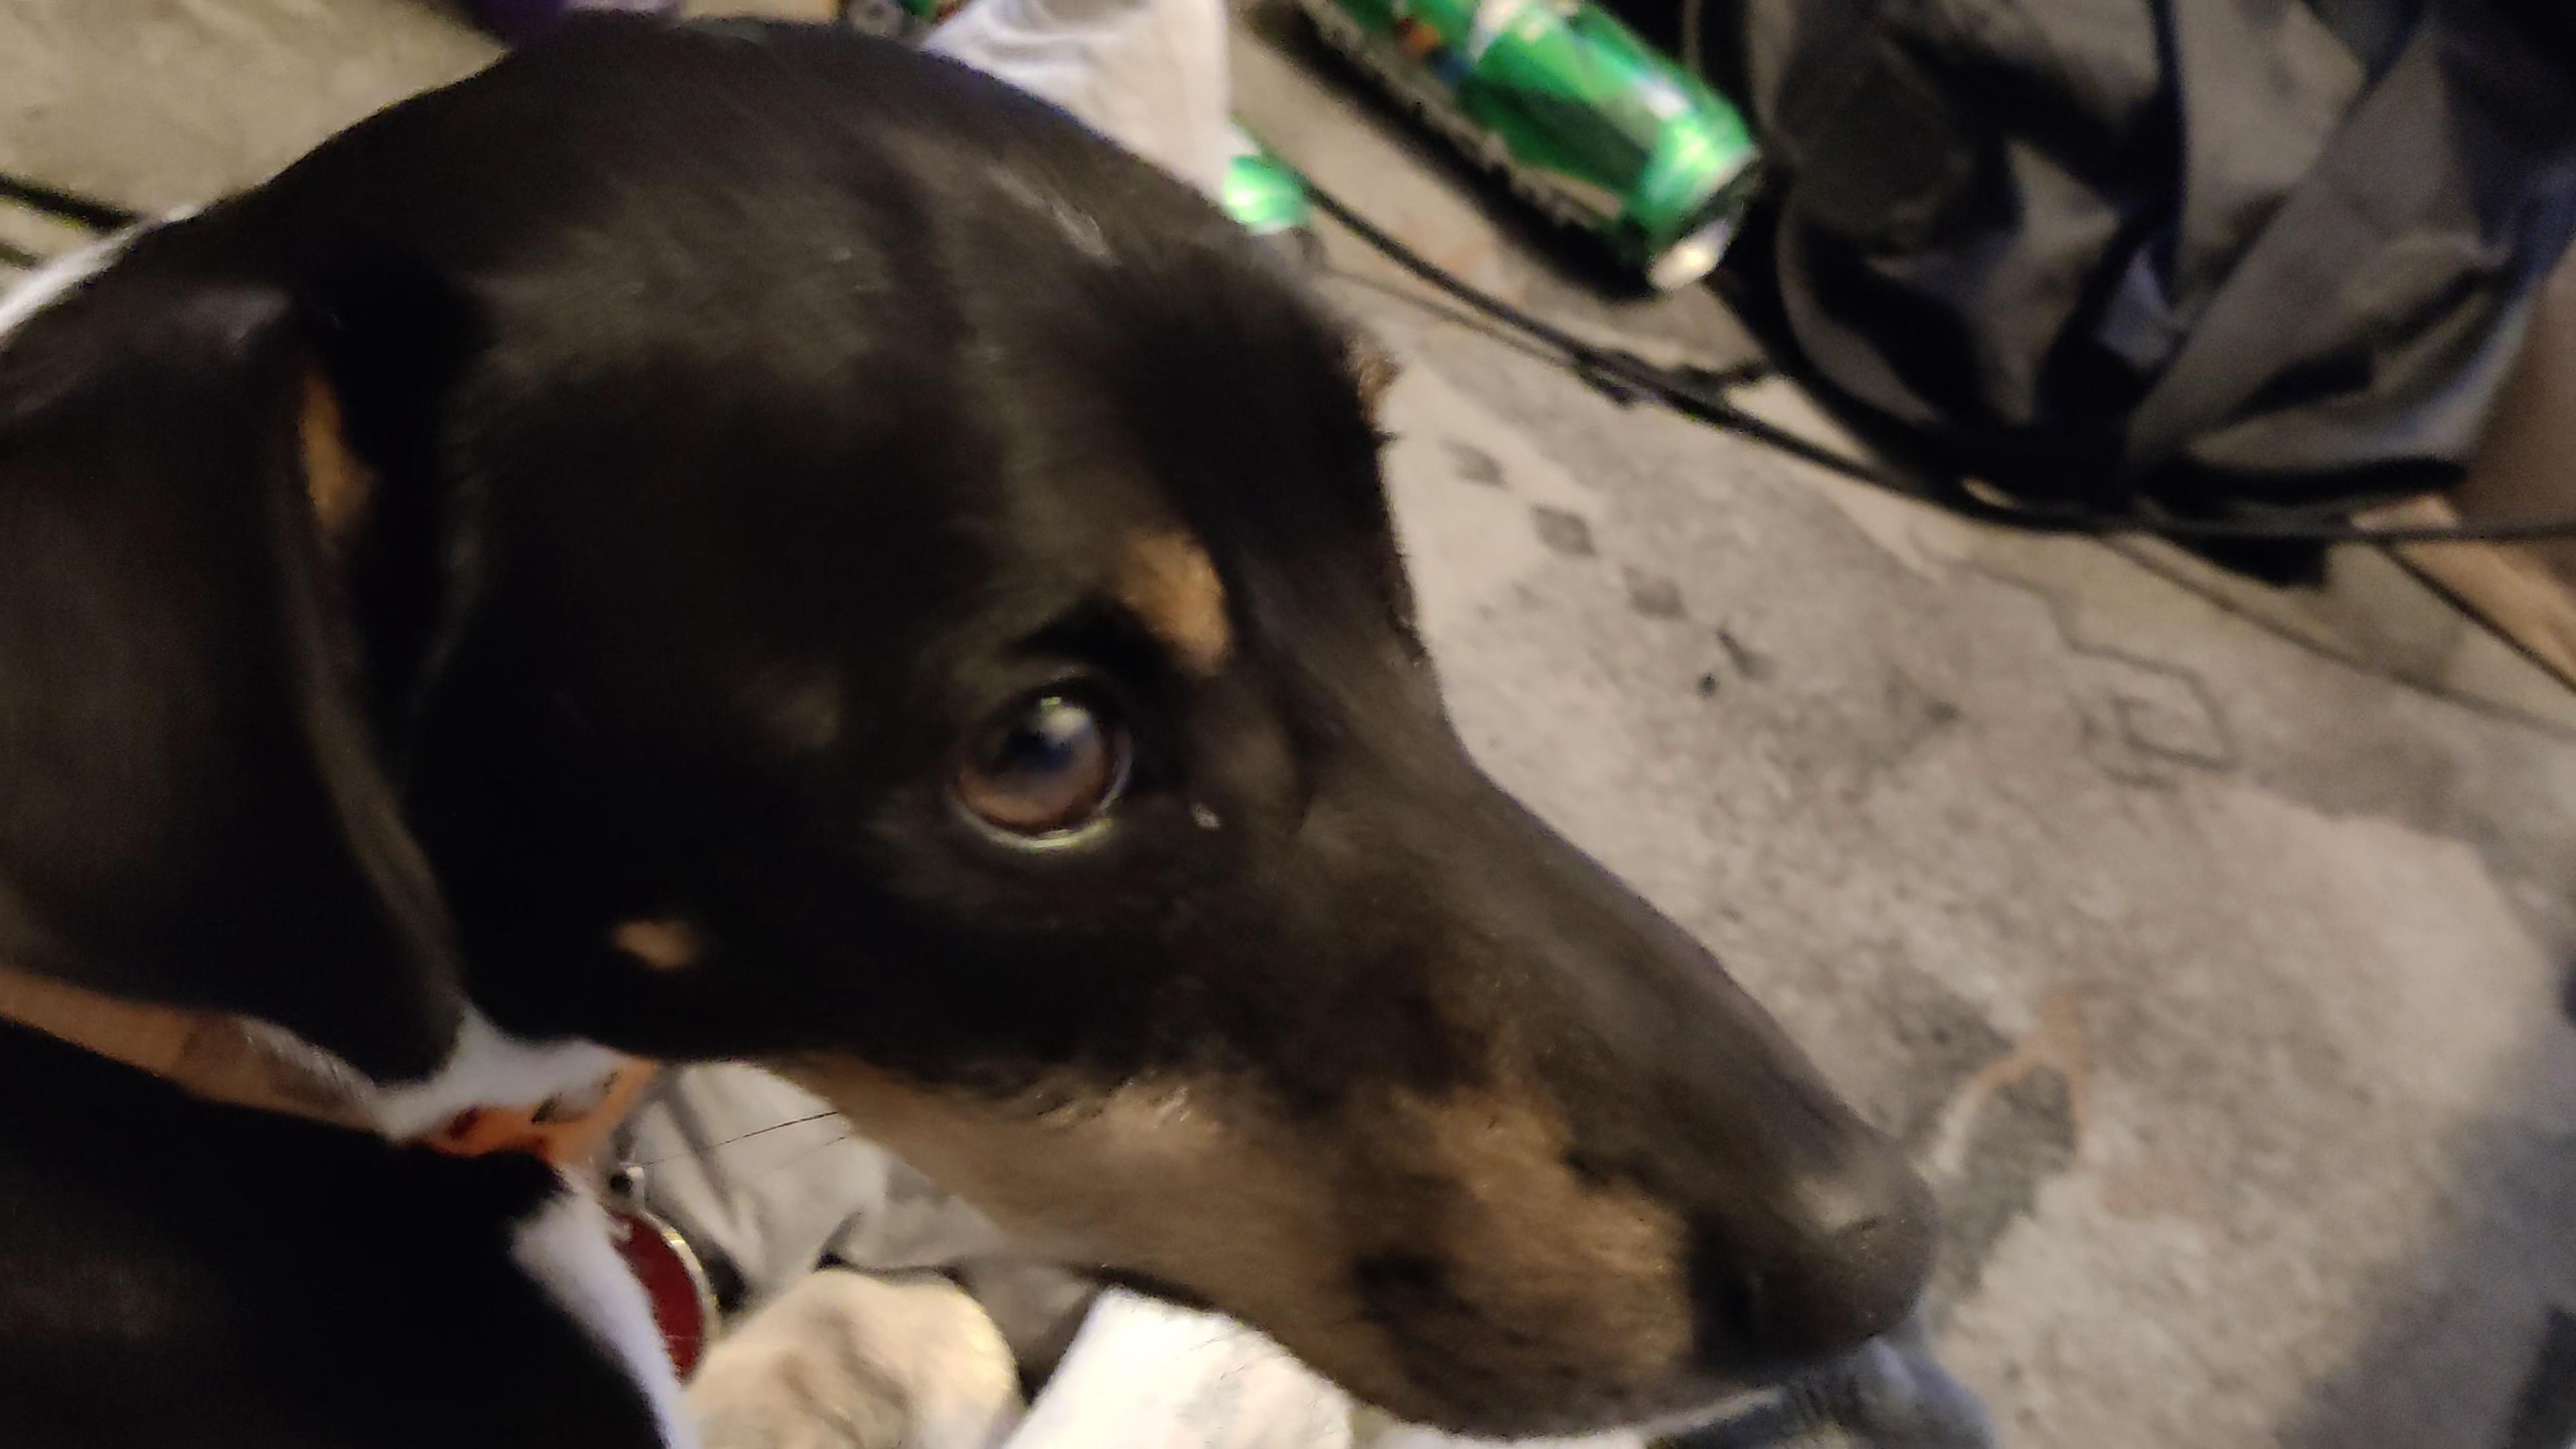Dog: (0, 2, 1964, 1449)
